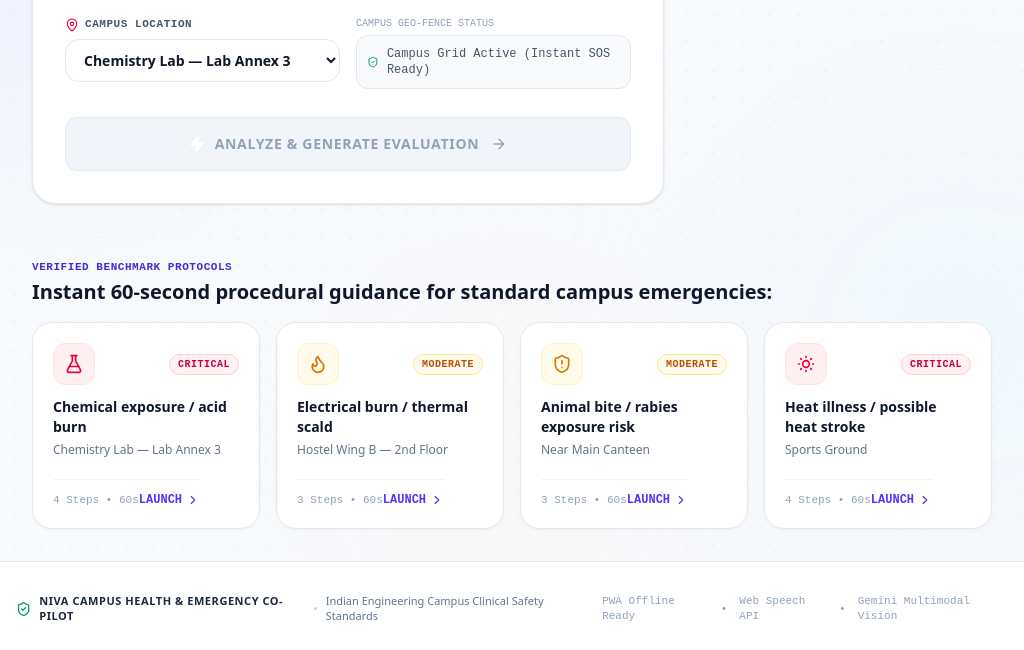
Test: App Integration Flow › navigates from IDLE to TRIAGE_AND_PROTOCOL state when preset is clicked
This screenshot has width=1024, height=650.
(page scrolled)
Click the button "Chemical exposure / acid burn": click(146, 426) [32,322,260,529]
(page scrolled)
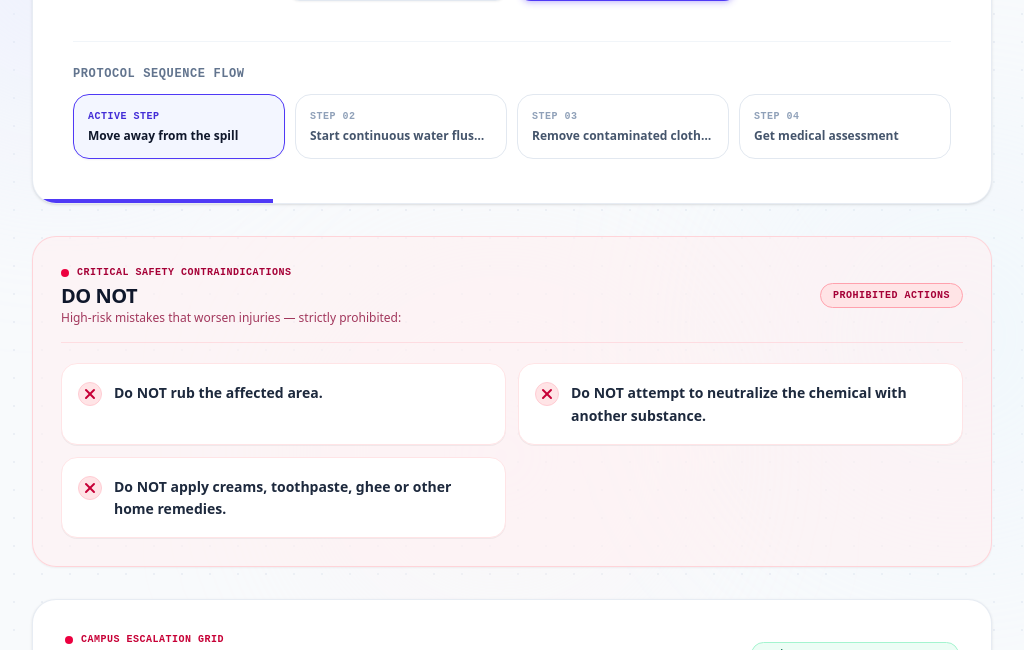
expect the text "Critical Safety Contraindications" is shown: met, box [77,265,292,280]
